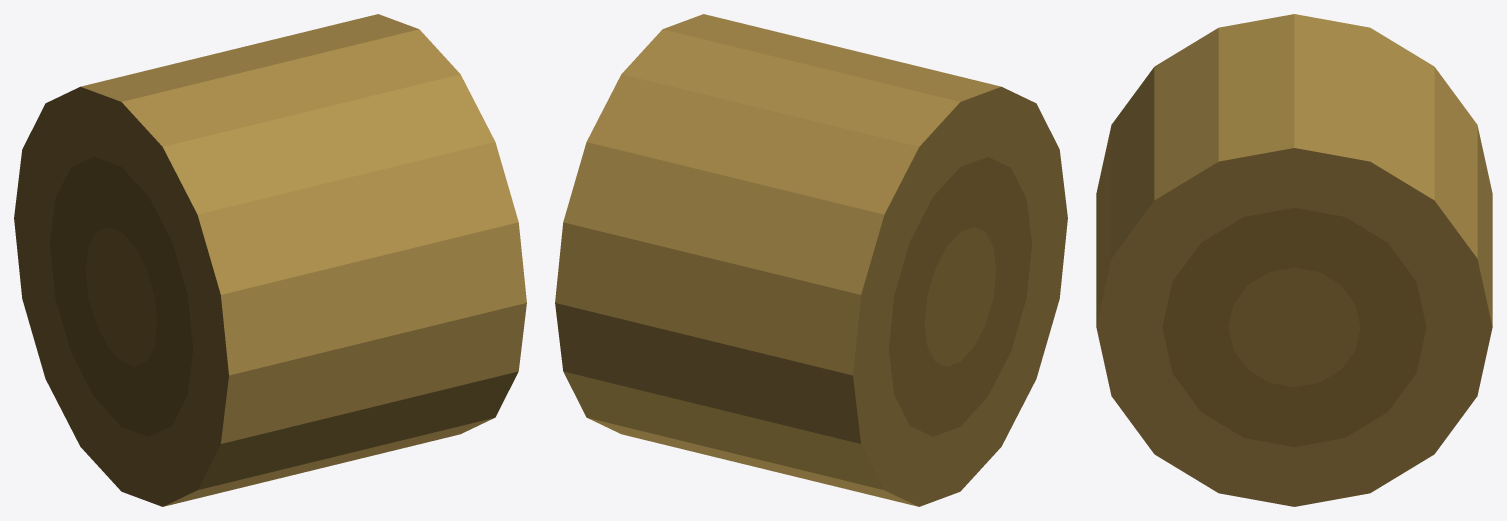
File: hay_bale.glb
3 renders of one model, left to right at view 1: azimuth 30°, elevation 25°; view 2: azimuth 150°, elevation 25°; view 3: azimuth 270°, elevation 25°, orthographic. The views are drawn at different scales.
Parts seen in each view (by area): view 1: hay_bale; view 2: hay_bale; view 3: hay_bale.
Part boxes in pixels (<box>): hay_bale: <box>14,14,526,506</box>; hay_bale: <box>555,14,1067,506</box>; hay_bale: <box>1096,14,1492,506</box>.
Size of the model in its own units: 1.2 by 1.5 by 1.5.
